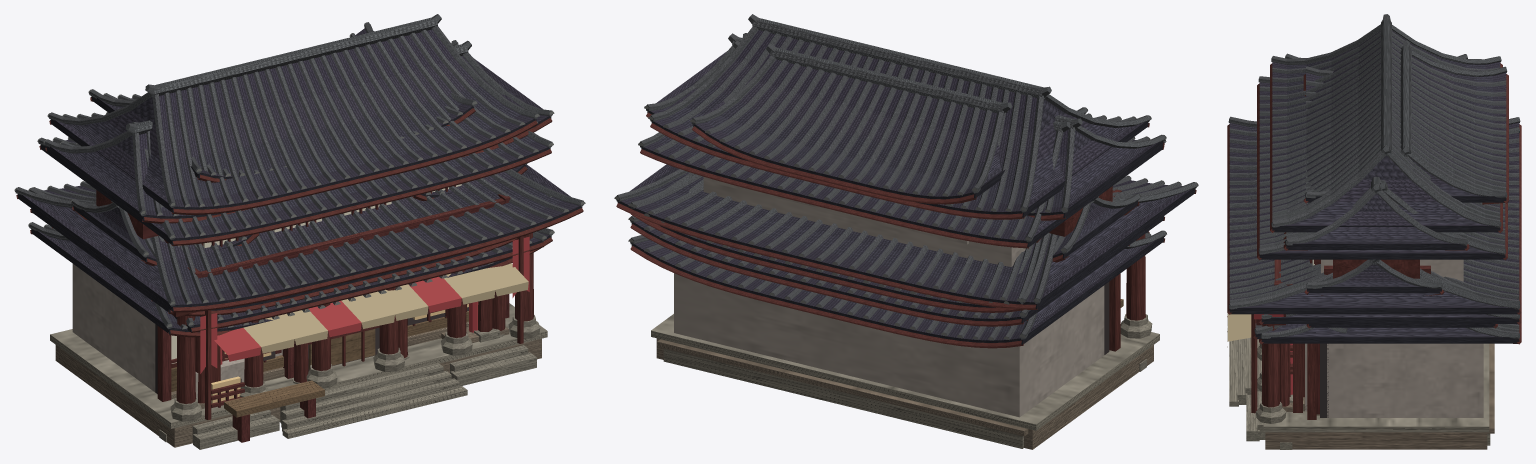
The model's file is regional_plum.glb.
The picture shows the model from 3 angles, left to right: view 1: azimuth 30°, elevation 25°; view 2: azimuth 150°, elevation 25°; view 3: azimuth 270°, elevation 25°; orthographic projection. The views are drawn at different scales.
Visible parts, largest first — view 1: hall, inn, shop, gate, wing, home, cottage; view 2: hall, wing, inn, cottage, gate, home; view 3: hall, wing, gate, inn, cottage, home, shop.
Part boxes in pixels (box(x1,y1,x2,y2)): hall: box(14, 14, 585, 447); inn: box(37, 43, 553, 408); shop: box(52, 227, 528, 442); gate: box(43, 40, 554, 442); wing: box(28, 22, 551, 449); home: box(30, 208, 526, 407); cottage: box(28, 222, 554, 362); hall: box(614, 14, 1198, 449); wing: box(628, 44, 1087, 448); inn: box(638, 41, 1166, 266); cottage: box(628, 230, 1166, 348); gate: box(644, 33, 1166, 371); home: box(628, 215, 1164, 326); hall: box(1227, 14, 1521, 449); wing: box(1246, 40, 1520, 445); gate: box(1280, 53, 1469, 449); inn: box(1253, 76, 1507, 406); cottage: box(1259, 323, 1521, 397); home: box(1259, 313, 1521, 412); shop: box(1227, 313, 1497, 347).
Size of the model in its own units: 2.26 by 1.59 by 1.49.
1 material, 1 textured.
